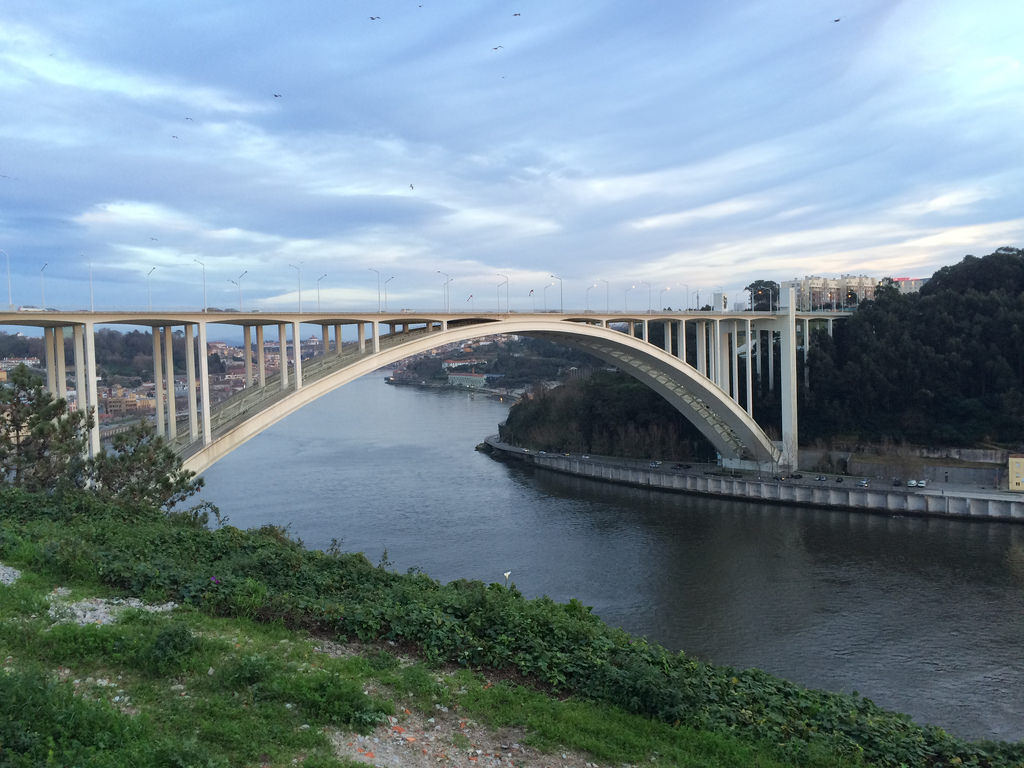arrabida: (0, 276, 858, 479)
